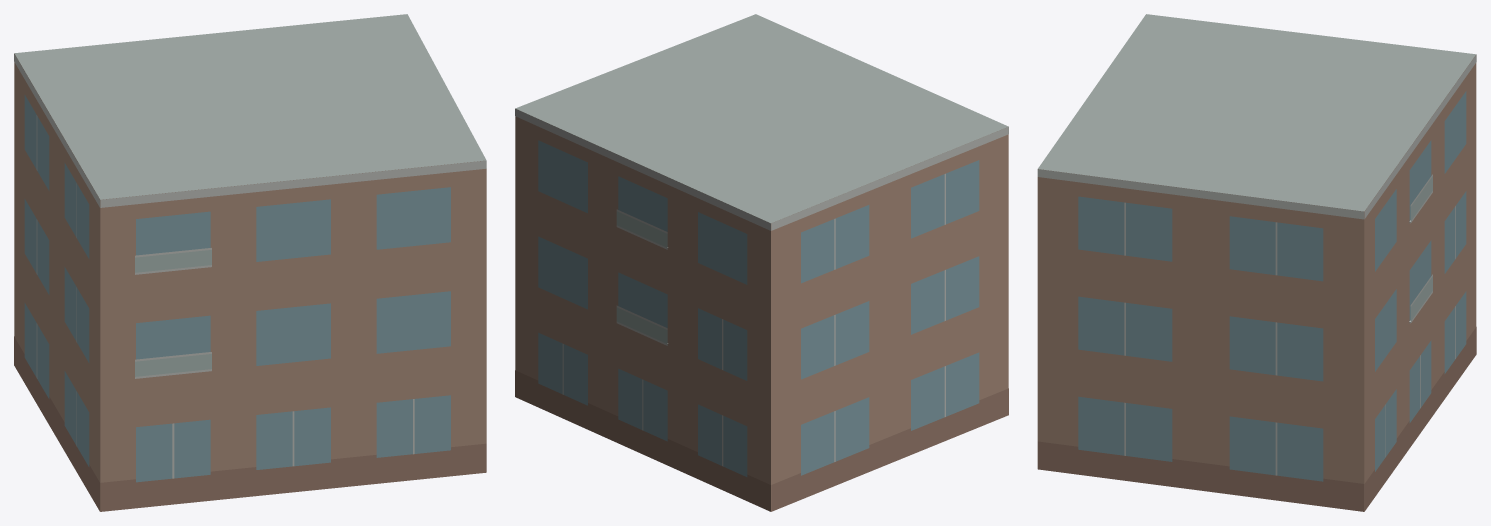
File: survey-upis-32819288.glb
3 renders of one model, left to right at view 1: azimuth 30°, elevation 25°; view 2: azimuth 150°, elevation 25°; view 3: azimuth 270°, elevation 25°, orthographic. The views are drawn at different scales.
Parts seen in each view (by area): view 1: survey-upis-32819288.tmp; view 2: survey-upis-32819288.tmp; view 3: survey-upis-32819288.tmp.
Part boxes in pixels (x1=…): survey-upis-32819288.tmp: x1=14, y1=14, x2=486, y2=511; survey-upis-32819288.tmp: x1=515, y1=14, x2=1008, y2=511; survey-upis-32819288.tmp: x1=1037, y1=14, x2=1476, y2=511.
Bounding box in the file's own units: 12.99 × 9.2 × 12.19.
